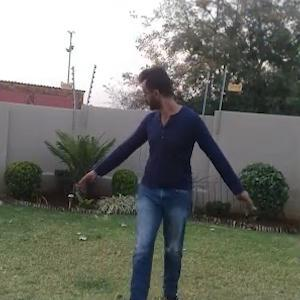land: (61, 62, 276, 298)
